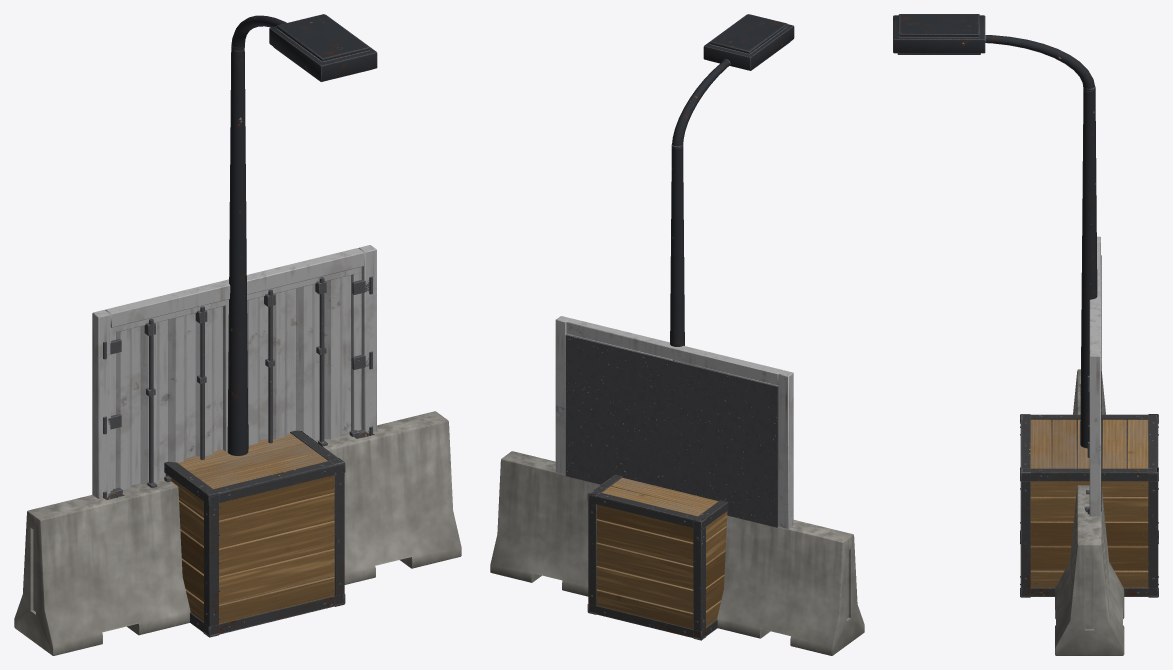
File: props.glb
3 renders of one model, left to right at view 1: azimuth 30°, elevation 25°; view 2: azimuth 150°, elevation 25°; view 3: azimuth 270°, elevation 25°, orthographic. The views are drawn at different scales.
Visible parts, largest first — view 1: container_door, barrier, crate, lamp; view 2: container_door, barrier, crate, lamp; view 3: crate, lamp, barrier, container_door.
Boxes of the visible parts, x1,y1,x2,y2 form: container_door: (92, 245, 376, 499); barrier: (14, 411, 461, 655); crate: (164, 430, 345, 637); lamp: (227, 14, 377, 455); container_door: (555, 316, 793, 528); barrier: (490, 451, 864, 655); crate: (587, 474, 728, 640); lamp: (670, 14, 794, 360); crate: (1020, 414, 1158, 597); lamp: (893, 14, 1097, 448); barrier: (1055, 369, 1124, 655); container_door: (1085, 236, 1101, 516).
Bounding box in the file's own units: 3.6 × 5.2 × 2.3.
Materials: 7 (6 with a texture image).
